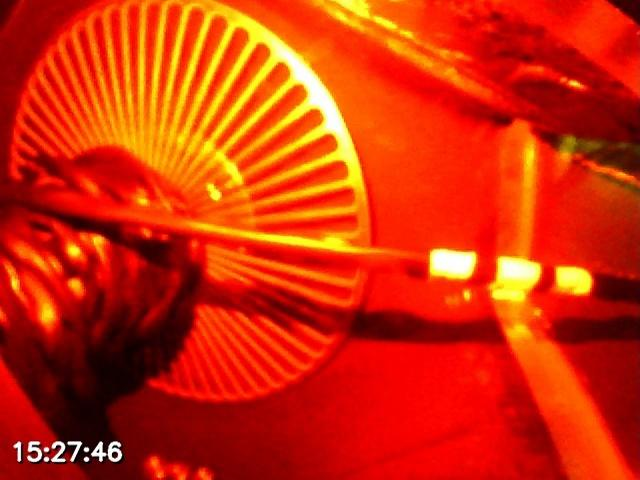white-dots: (428, 247, 593, 297)
